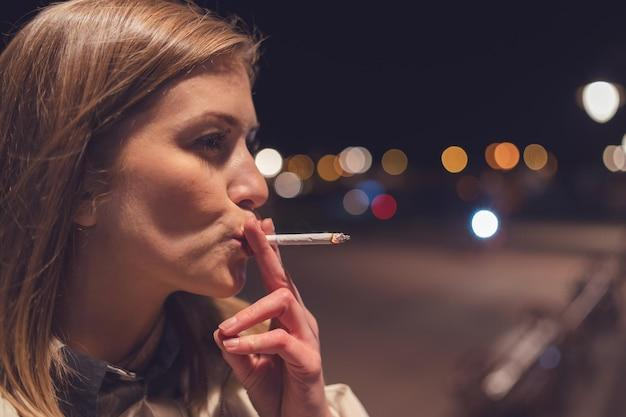cigarette: (266, 233, 349, 244)
